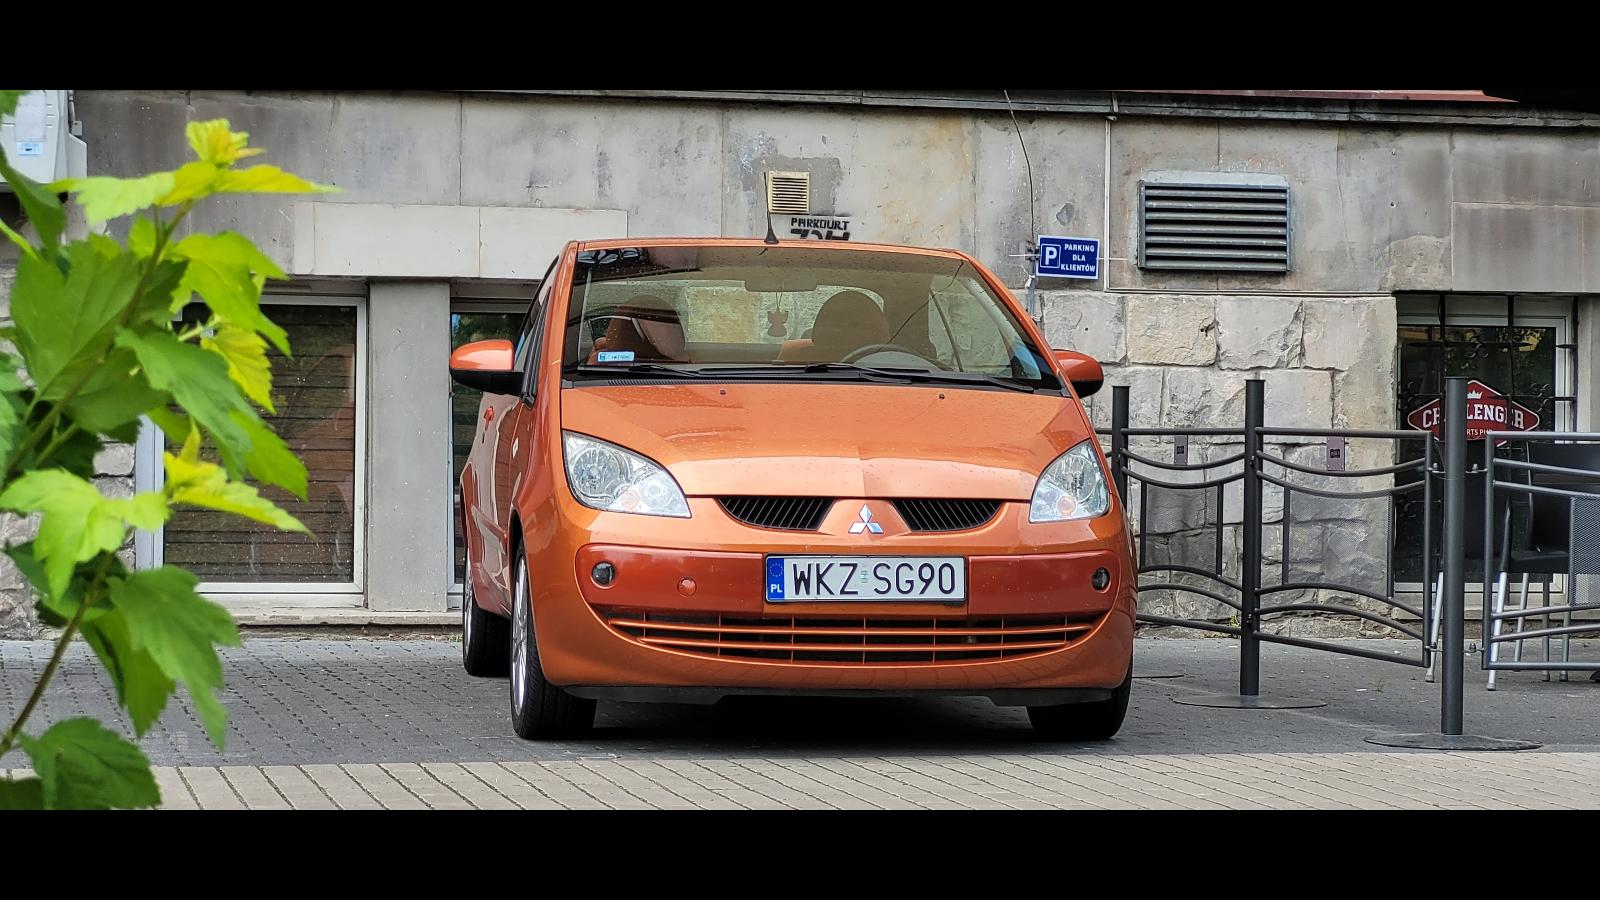plates: (766, 556, 965, 602)
